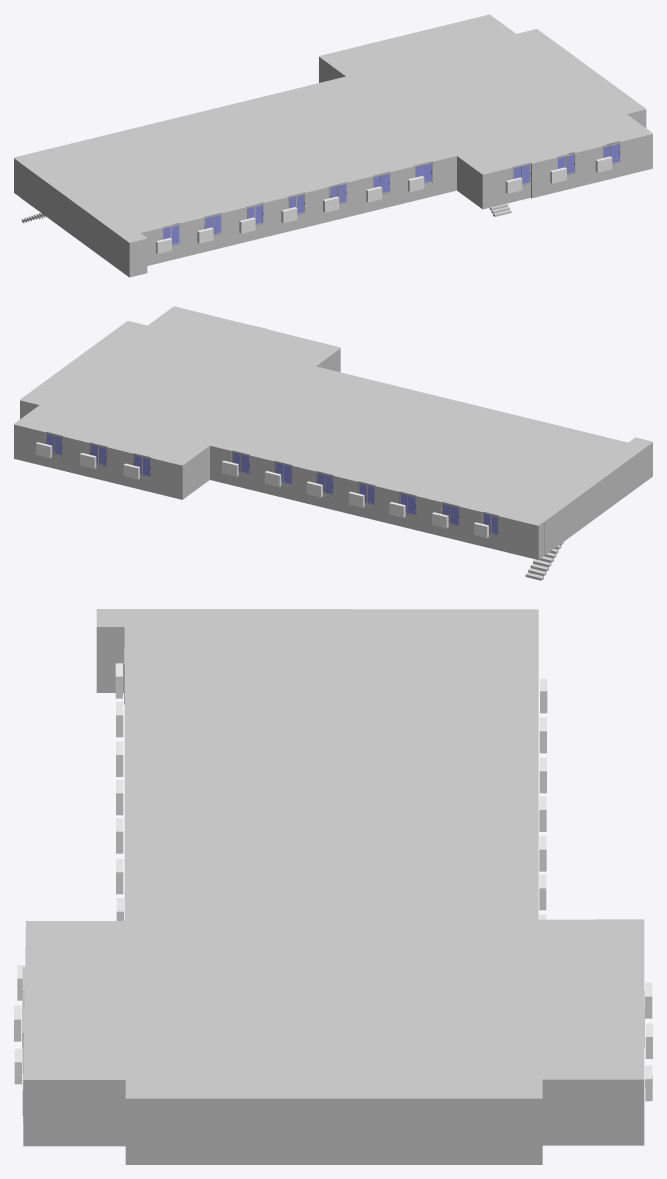
The model's file is MapA2blend.fbx.
3 renders of one model, top to bottom at view 1: azimuth 30°, elevation 25°; view 2: azimuth 150°, elevation 25°; view 3: azimuth 270°, elevation 25°, orthographic. The views are drawn at different scales.
Visible parts, largest first — view 1: plafond.001, Plan; view 2: plafond.001, Plan, Stairs.003; view 3: plafond.001, Plan.
Boxes of the visible parts, left/top/right/bottom form: plafond.001: left=14, top=14, right=652, bottom=241; Plan: left=14, top=56, right=652, bottom=277; plafond.001: left=14, top=306, right=652, bottom=524; Plan: left=14, top=348, right=652, bottom=559; Stairs.003: left=525, top=542, right=563, bottom=580; plafond.001: left=23, top=609, right=644, bottom=1097; Plan: left=22, top=625, right=644, bottom=1164.
Size of the model in its own units: 4747 by 560 by 2625.
